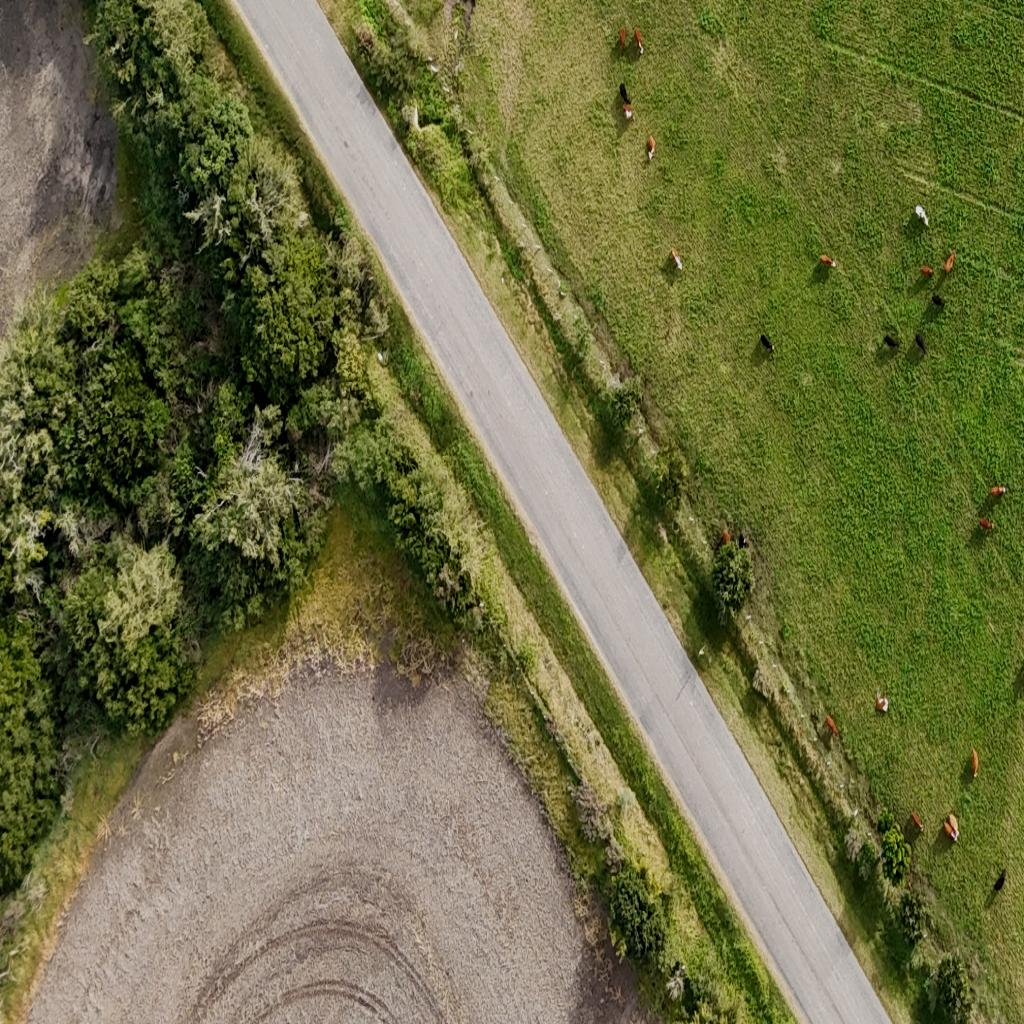cow: (908, 810, 924, 834), (875, 687, 889, 713), (948, 812, 960, 842), (826, 717, 840, 741), (992, 870, 1006, 894), (914, 204, 928, 228), (970, 750, 980, 780), (618, 80, 630, 104), (622, 100, 635, 122), (760, 334, 774, 354), (634, 28, 644, 56), (942, 821, 954, 844), (817, 254, 834, 270), (944, 250, 955, 274), (670, 249, 682, 271), (646, 136, 656, 162), (620, 26, 630, 52), (919, 262, 935, 278), (884, 334, 900, 350), (915, 334, 927, 354), (978, 516, 994, 530), (932, 293, 945, 309), (988, 484, 1004, 496), (738, 532, 748, 550), (720, 528, 730, 545)
